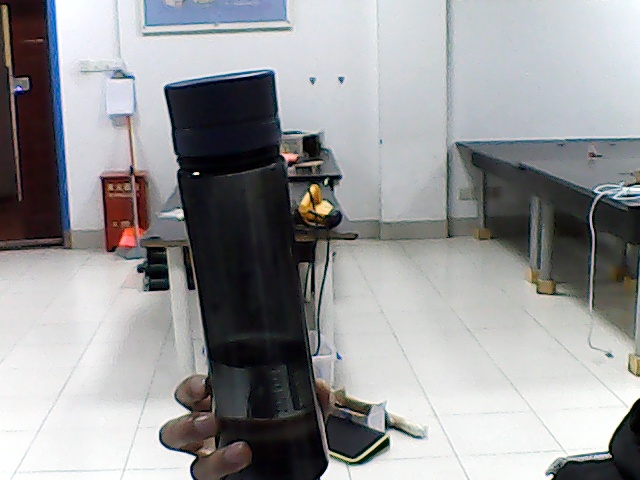cup: (228, 100, 277, 430)
